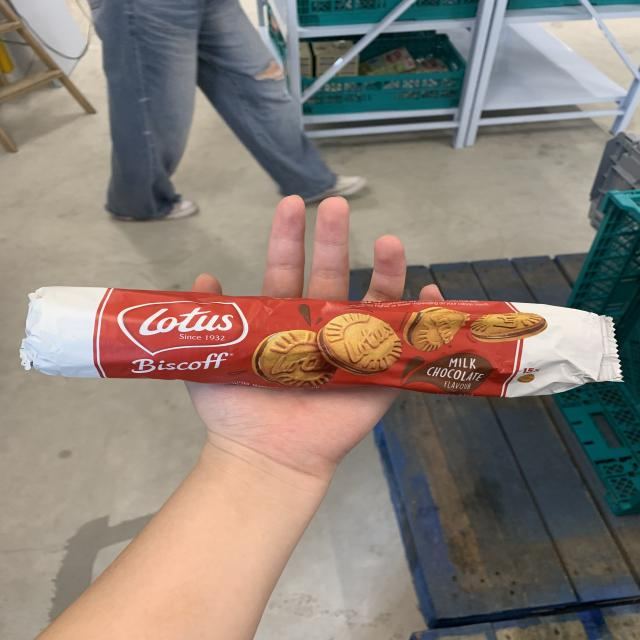object_name: (15, 291, 612, 395)
